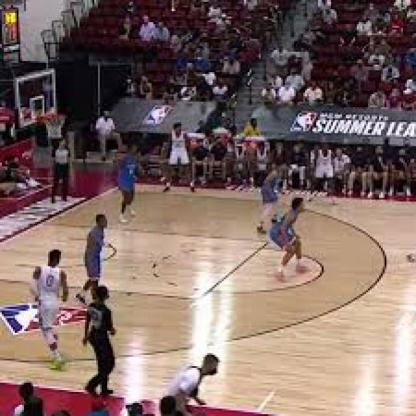rim: (44, 113, 66, 124)
